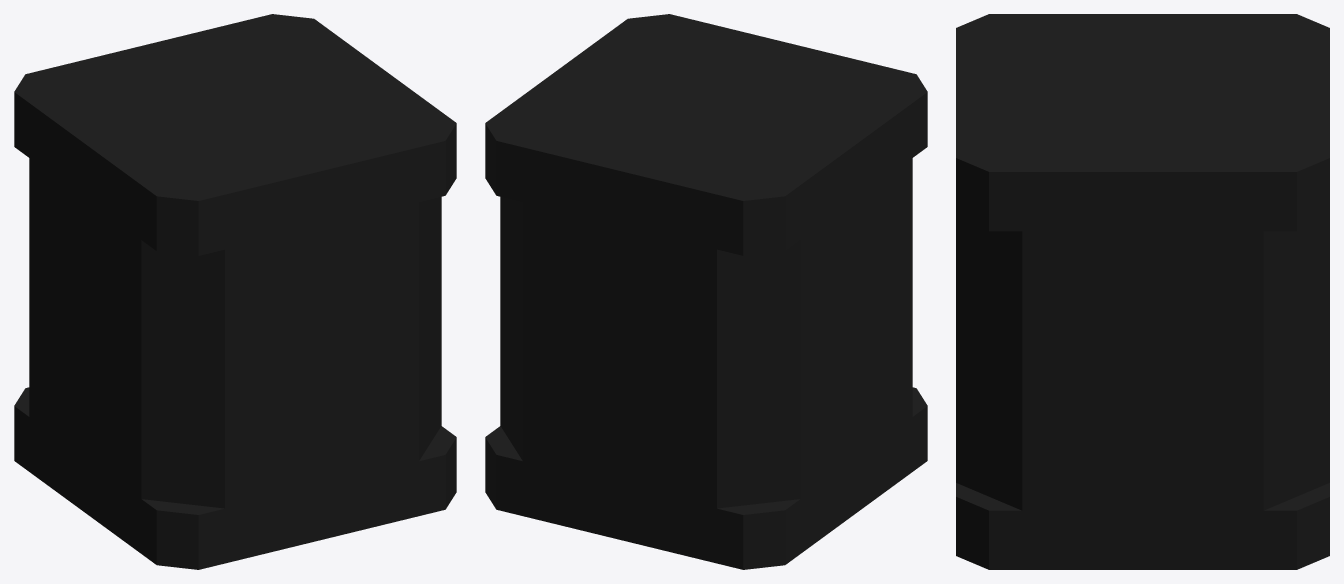
Rendered from Motor.obj.
3 views of the same model, side by side, from view 1: azimuth 30°, elevation 25°; view 2: azimuth 150°, elevation 25°; view 3: azimuth 270°, elevation 25° (orthographic). The views are drawn at different scales.
Parts seen in each view (by area): view 1: MeshBody1; view 2: MeshBody1; view 3: MeshBody1.
Part boxes in pixels (left/top/right/bottom): MeshBody1: left=14, top=14, right=456, bottom=569; MeshBody1: left=485, top=14, right=927, bottom=569; MeshBody1: left=956, top=14, right=1329, bottom=569.
Size of the model in its own units: 40 by 47 by 40.
Materials: 1 (1 with a texture image).
